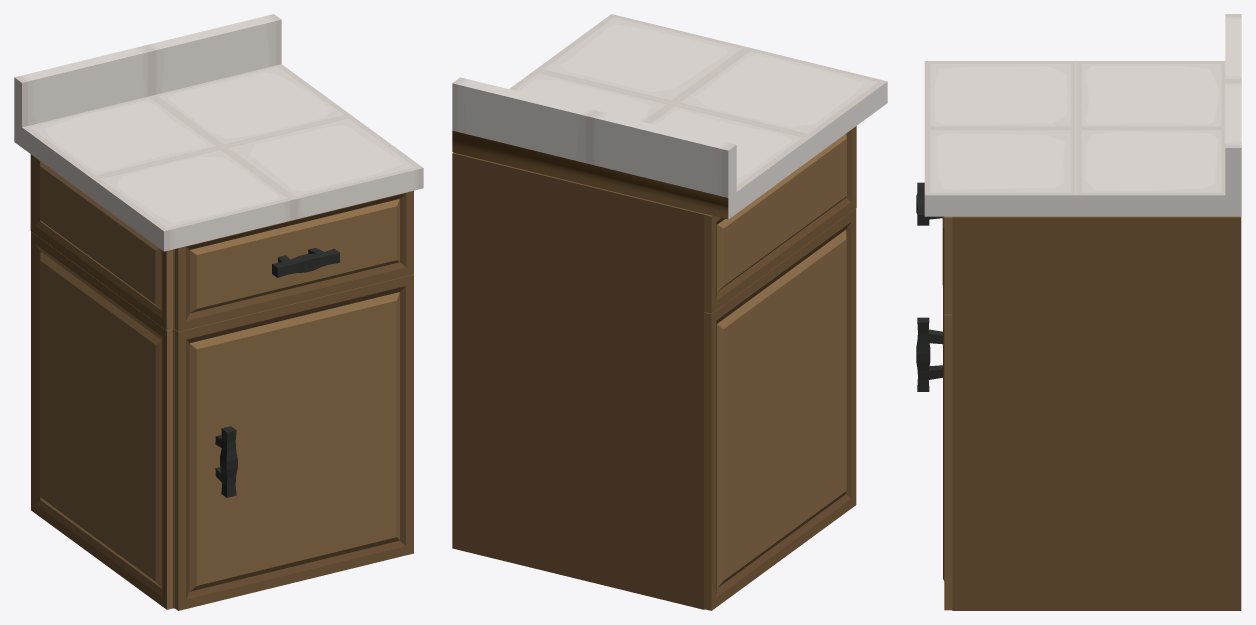
File: SM_Prop_KitchenTabletop_02b.obj
3 renders of one model, left to right at view 1: azimuth 30°, elevation 25°; view 2: azimuth 150°, elevation 25°; view 3: azimuth 270°, elevation 25°, orthographic. The views are drawn at different scales.
Visible parts, largest first — view 1: SM_Prop_KitchenTabletop_02b_Mat_SwatchOverlay_Farm_01_Wood_Inst, SM_Prop_KitchenTabletop_02b_Mat_SwatchOverlay_Farm_Main_01_Inst, SM_Prop_KitchenTabletop_02b_M_LowPolyFarm_MAIN; view 2: SM_Prop_KitchenTabletop_02b_Mat_SwatchOverlay_Farm_01_Wood_Inst, SM_Prop_KitchenTabletop_02b_Mat_SwatchOverlay_Farm_Main_01_Inst; view 3: SM_Prop_KitchenTabletop_02b_Mat_SwatchOverlay_Farm_01_Wood_Inst, SM_Prop_KitchenTabletop_02b_Mat_SwatchOverlay_Farm_Main_01_Inst, SM_Prop_KitchenTabletop_02b_M_LowPolyFarm_MAIN.
Boxes of the visible parts, bbox=[...] form: SM_Prop_KitchenTabletop_02b_Mat_SwatchOverlay_Farm_01_Wood_Inst: bbox=[30, 154, 413, 610]; SM_Prop_KitchenTabletop_02b_Mat_SwatchOverlay_Farm_Main_01_Inst: bbox=[14, 14, 423, 251]; SM_Prop_KitchenTabletop_02b_M_LowPolyFarm_MAIN: bbox=[215, 248, 339, 497]; SM_Prop_KitchenTabletop_02b_Mat_SwatchOverlay_Farm_01_Wood_Inst: bbox=[452, 126, 856, 610]; SM_Prop_KitchenTabletop_02b_Mat_SwatchOverlay_Farm_Main_01_Inst: bbox=[452, 14, 887, 219]; SM_Prop_KitchenTabletop_02b_Mat_SwatchOverlay_Farm_01_Wood_Inst: bbox=[942, 216, 1241, 610]; SM_Prop_KitchenTabletop_02b_Mat_SwatchOverlay_Farm_Main_01_Inst: bbox=[924, 14, 1241, 216]; SM_Prop_KitchenTabletop_02b_M_LowPolyFarm_MAIN: bbox=[916, 182, 942, 391].
Bounding box in the file's own units: 0.6112 × 0.983 × 0.6262.
3 materials, 3 textured.
